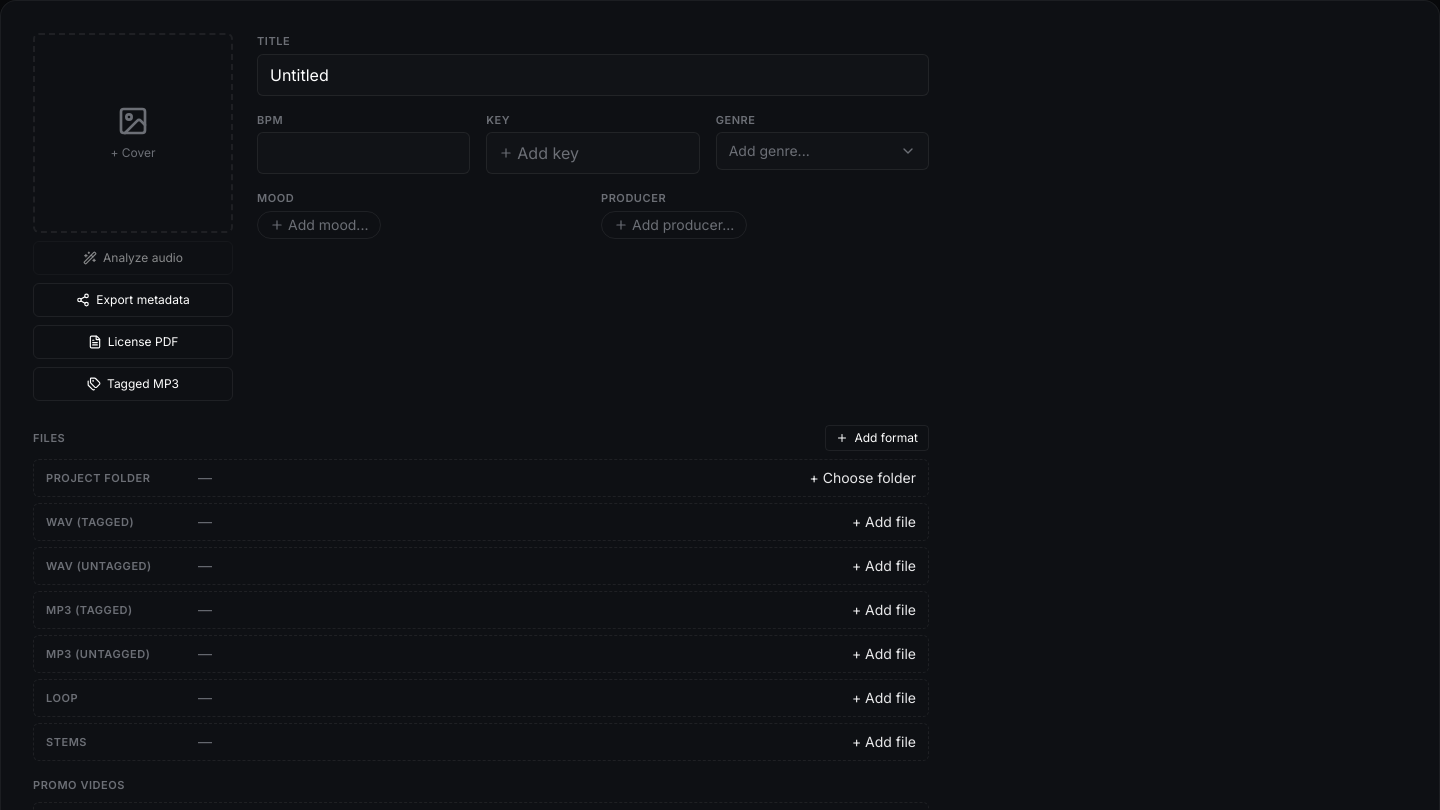
Test case: TrackEditor (auto-save) › auto-saves after the debounce window once title is non-empty
Replace the text in the field showing "Untitled" with "NewTitle". click: (593, 74)
box: [257,54,929,96]
Wait 900 ms
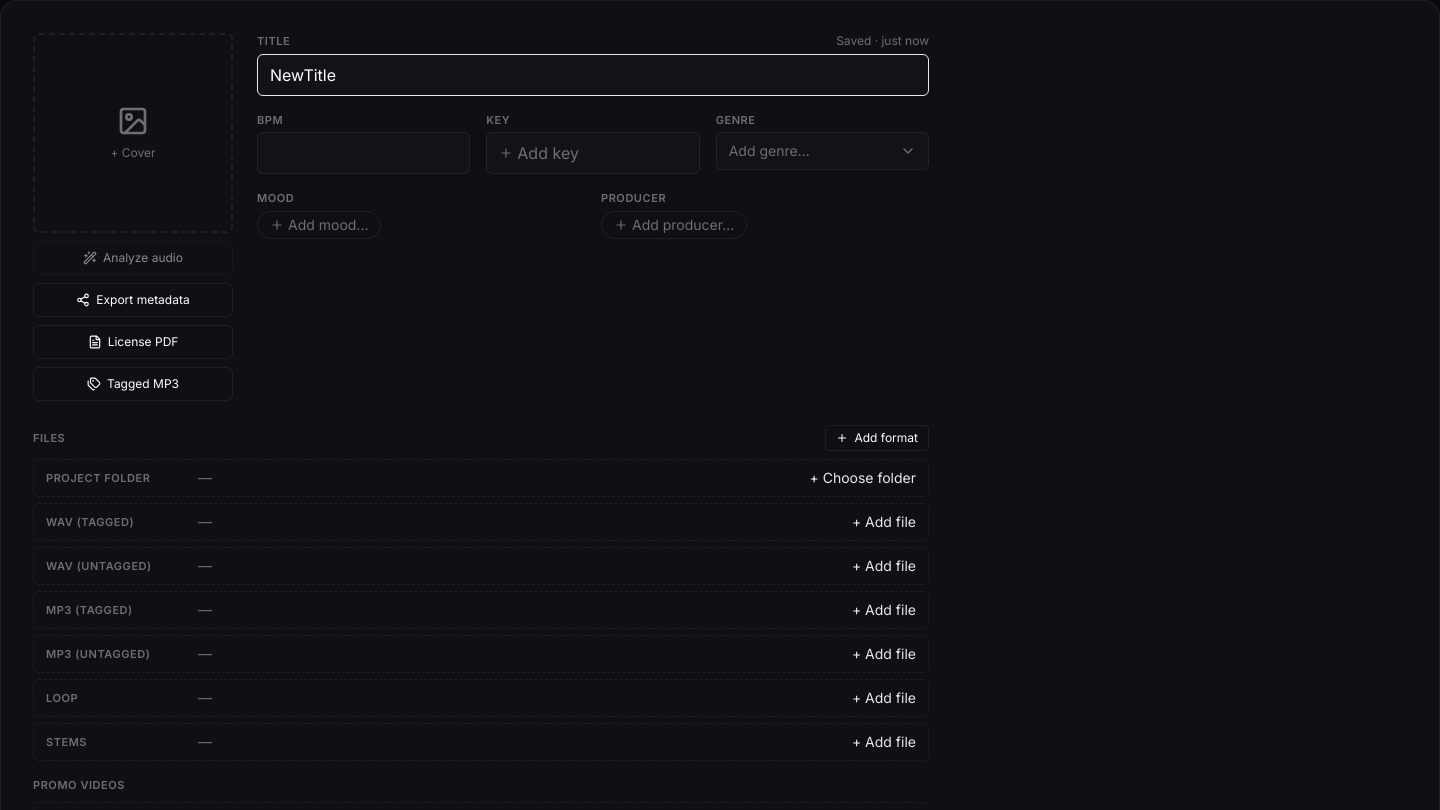
expect the text "Saved · just now" is shown: met, box [836,33,929,49]
